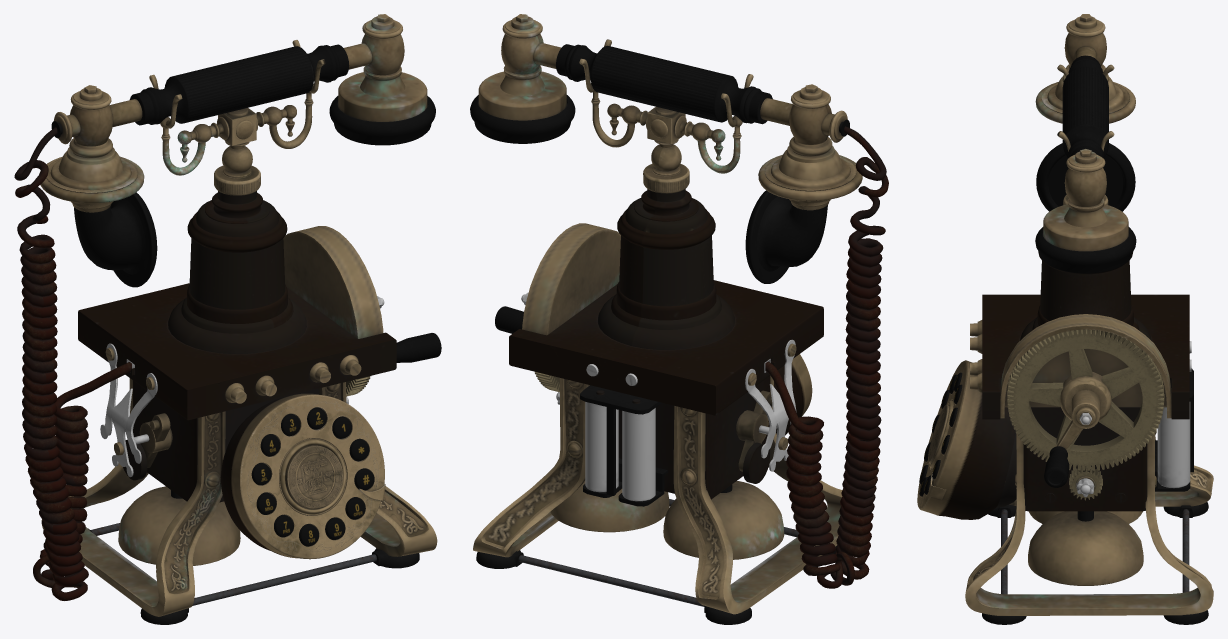
Rendered from obj_vintage_telephone_paramount__44a79d.glb.
3 renders of one model, left to right at view 1: azimuth 30°, elevation 25°; view 2: azimuth 150°, elevation 25°; view 3: azimuth 270°, elevation 25°, orthographic. The views are drawn at different scales.
Visible parts, largest first — view 1: obj_vintage_telephone_paramount__44a79d; view 2: obj_vintage_telephone_paramount__44a79d; view 3: obj_vintage_telephone_paramount__44a79d.
Boxes of the visible parts, x1,y1,x2,y2 form: obj_vintage_telephone_paramount__44a79d: (14,14,441,624); obj_vintage_telephone_paramount__44a79d: (470,14,888,624); obj_vintage_telephone_paramount__44a79d: (917,14,1213,624).
Size of the model in its own units: 0.1889 by 0.22 by 0.1236.
1 material, 1 textured.
